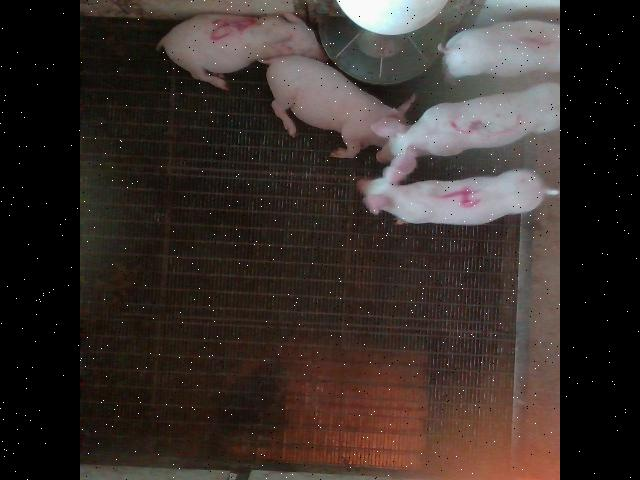pig-1: (439, 19, 559, 76)
pig-3: (371, 81, 559, 178)
pig-4: (358, 165, 558, 224)
pig-5: (158, 12, 326, 89)
